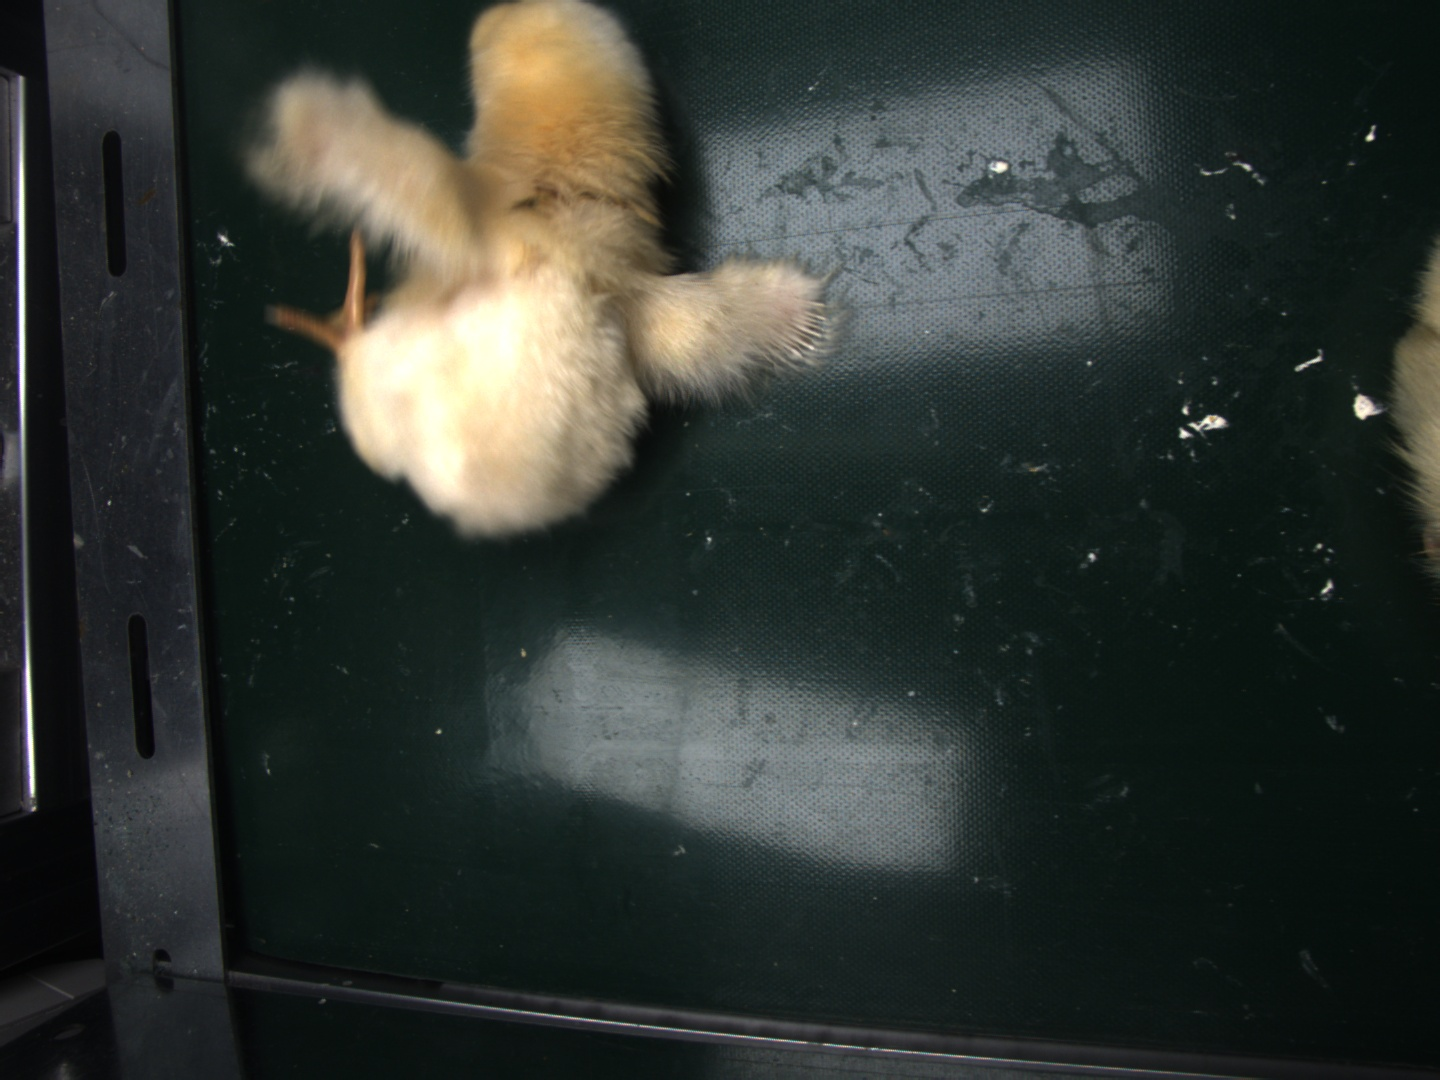male: (779, 302, 828, 357)
